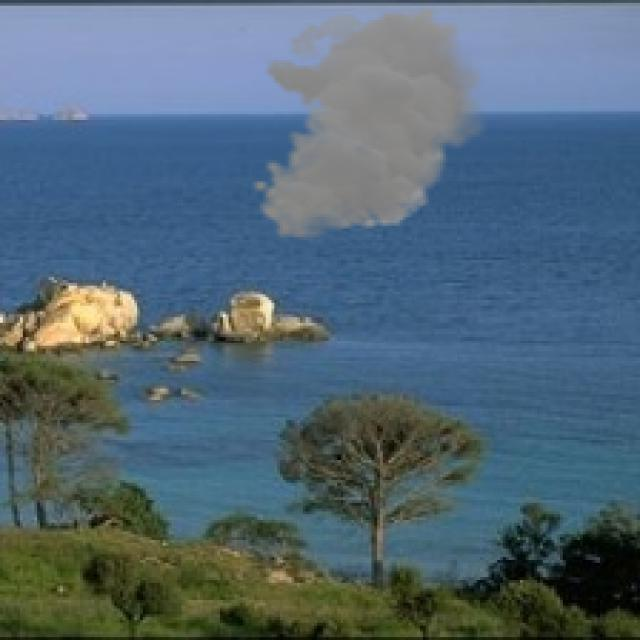smoke: (252, 6, 494, 240)
